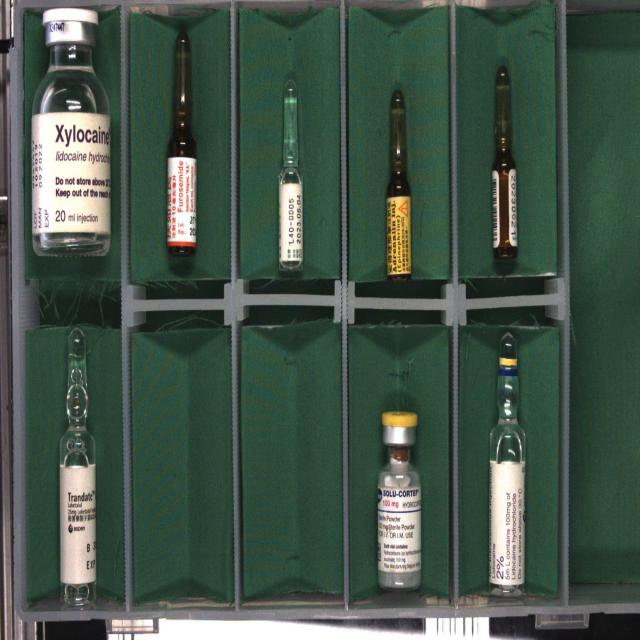Ampoules: (60, 327, 96, 605), (489, 332, 526, 596), (167, 32, 196, 255), (491, 66, 517, 259), (386, 90, 411, 280), (279, 80, 303, 270), (174, 31, 191, 124)
Vials: (31, 9, 110, 255), (377, 411, 421, 590)
